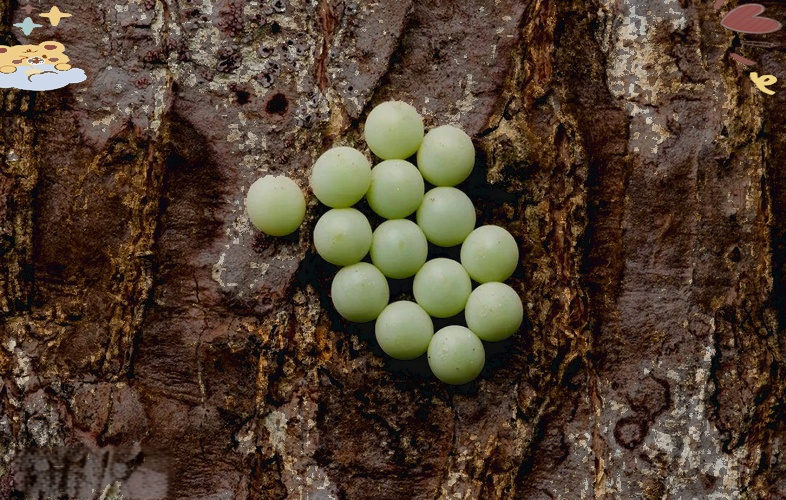Stink_Bug: (289, 85, 492, 389)
